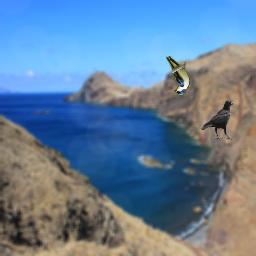Crow: (201, 100, 233, 140)
Swallow: (166, 56, 190, 96)
